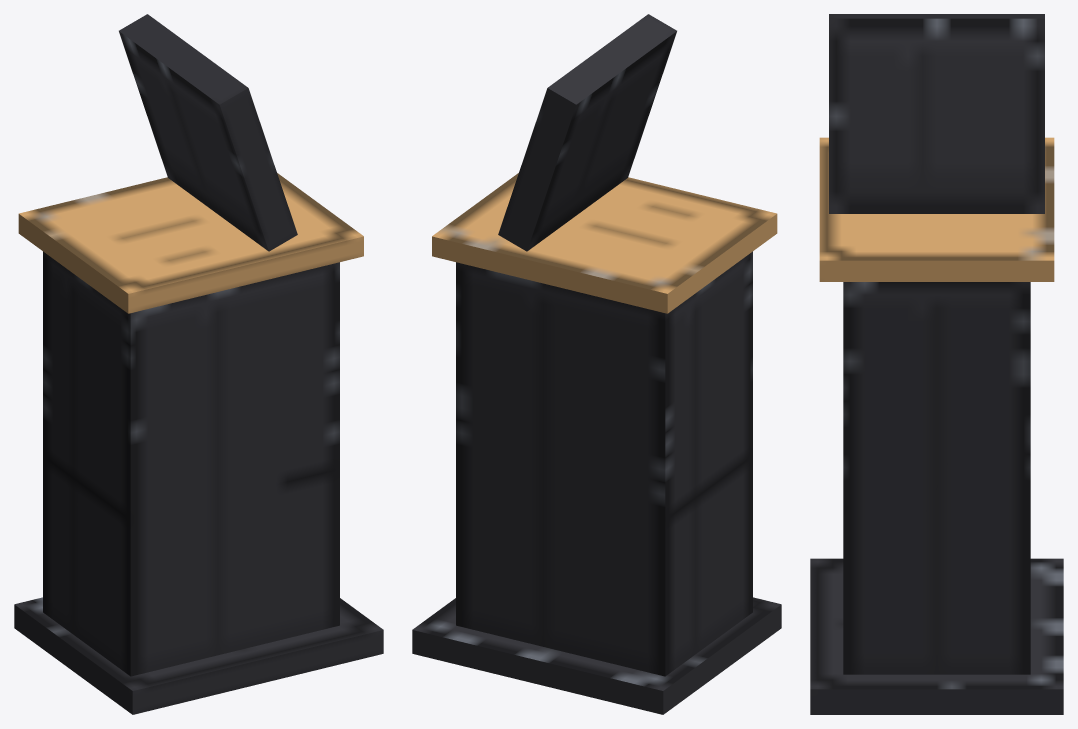
The model's file is LogbookHousing.obj.
The picture shows the model from 3 angles, left to right: view 1: azimuth 30°, elevation 25°; view 2: azimuth 150°, elevation 25°; view 3: azimuth 270°, elevation 25°; orthographic projection. The views are drawn at different scales.
Visible parts, largest first — view 1: LogbookHousing; view 2: LogbookHousing; view 3: LogbookHousing.
Part boxes in pixels (box(x1,y1,x2,y2)): LogbookHousing: box(14, 14, 383, 714); LogbookHousing: box(412, 14, 781, 714); LogbookHousing: box(810, 14, 1063, 714).
Bounding box in the file's own units: 0.66 × 1.48 × 0.54.
1 material, 1 textured.
